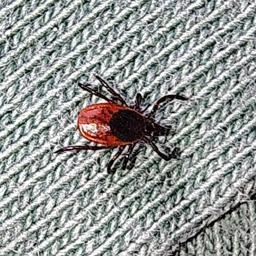Ixodes scapularis: (56, 79, 188, 169)
